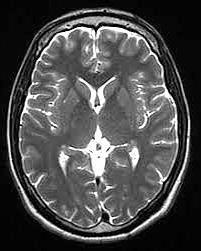Normal_Brain: (1, 1, 201, 237)
